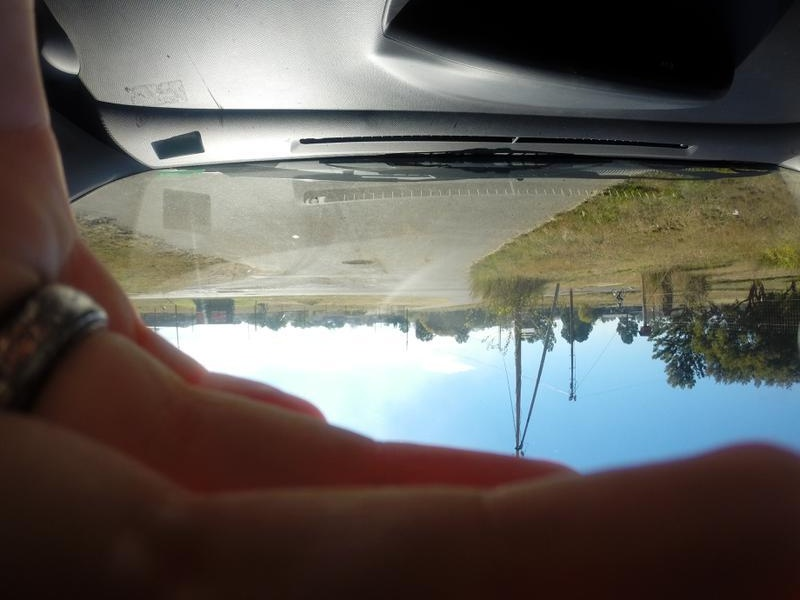pothole: (333, 251, 373, 270)
